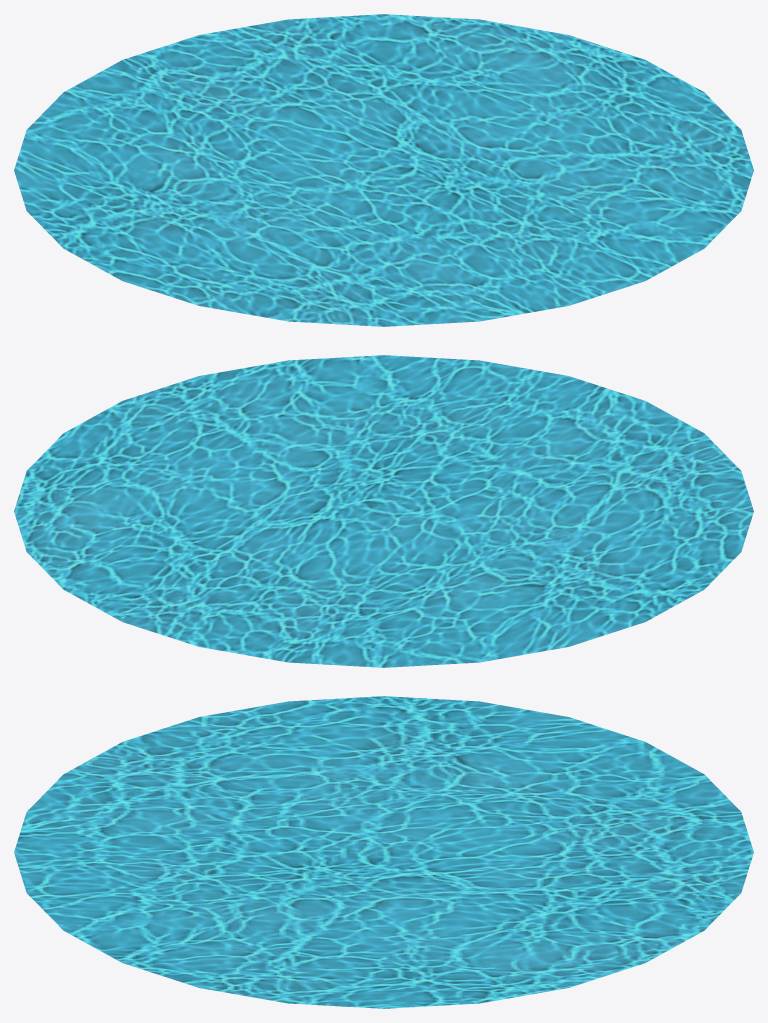
Rendered from Agua.obj.
3 renders of one model, top to bottom at view 1: azimuth 30°, elevation 25°; view 2: azimuth 150°, elevation 25°; view 3: azimuth 270°, elevation 25°, orthographic.
Parts seen in each view (by area): view 1: Agua:pDisc1; view 2: Agua:pDisc1; view 3: Agua:pDisc1.
Part boxes in pixels (x1,y1,x2,y2): Agua:pDisc1: (14, 14, 753, 326); Agua:pDisc1: (14, 355, 753, 667); Agua:pDisc1: (14, 696, 753, 1008).
Bounding box in the file's own units: 2 × 0 × 2.
1 material, 1 textured.
